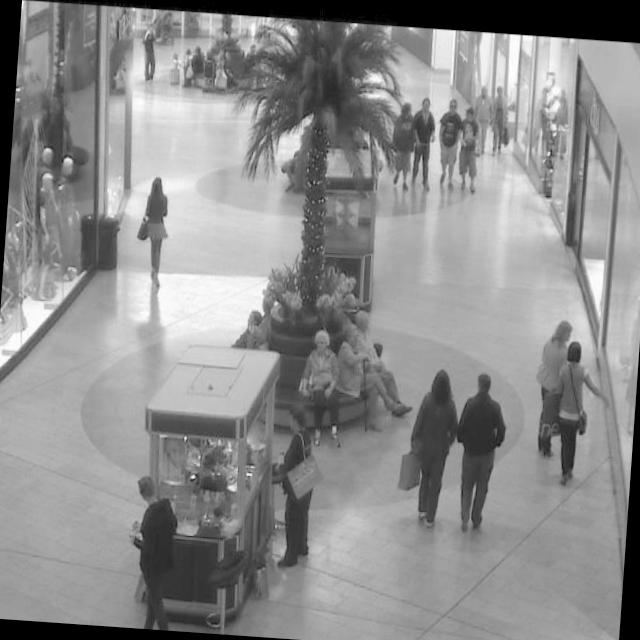person: (268, 404, 329, 571), (448, 372, 511, 532), (403, 374, 461, 530), (127, 477, 181, 630), (332, 326, 414, 425), (548, 342, 598, 488), (529, 319, 575, 462), (409, 96, 466, 195), (294, 330, 342, 445), (135, 175, 174, 285), (406, 99, 437, 190), (388, 104, 419, 195), (435, 100, 466, 188), (453, 108, 482, 195), (230, 308, 270, 350), (472, 87, 497, 154), (488, 85, 511, 152), (139, 26, 160, 81), (212, 48, 234, 90), (186, 45, 205, 85), (164, 50, 184, 88)
